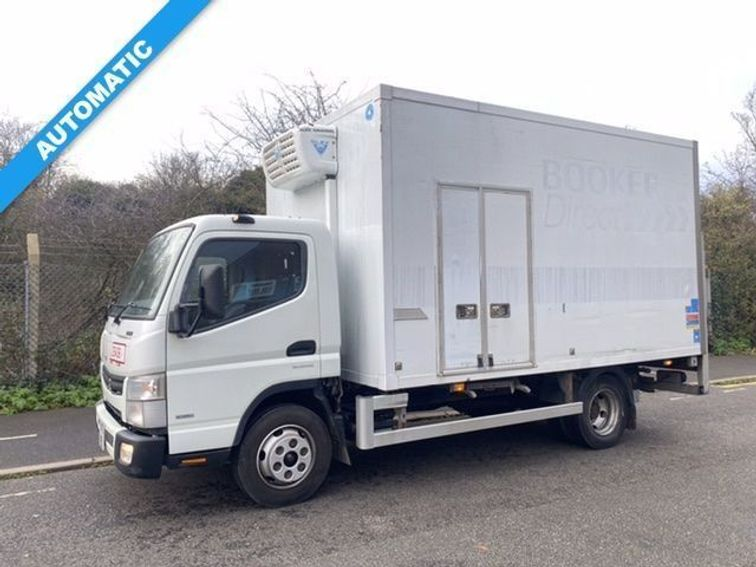Semi: (93, 83, 707, 508)
